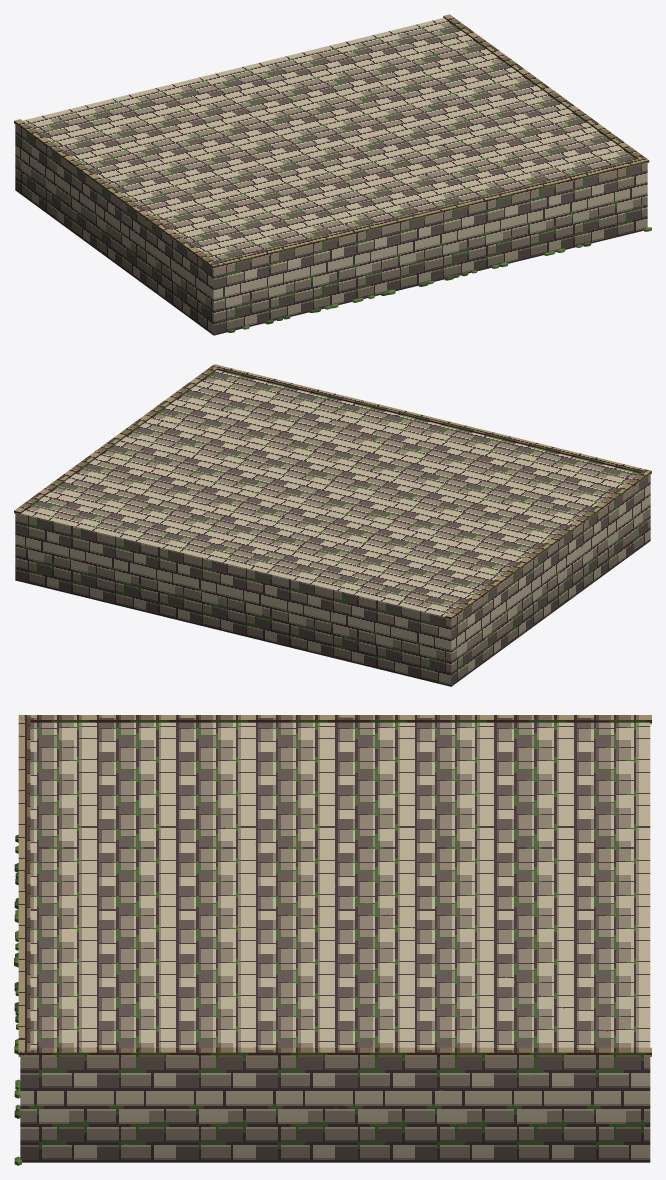
Rendered from scene_wall_n.glb.
3 renders of one model, top to bottom at view 1: azimuth 30°, elevation 25°; view 2: azimuth 150°, elevation 25°; view 3: azimuth 270°, elevation 25°, orthographic. The views are drawn at different scales.
Parts seen in each view (by area): view 1: scene_wall_n; view 2: scene_wall_n; view 3: scene_wall_n.
Boxes of the visible parts, x1,y1,x2,y2 form: scene_wall_n: (14, 14, 651, 335); scene_wall_n: (14, 364, 651, 686); scene_wall_n: (14, 715, 651, 1165).
Bounding box in the file's own units: 24.25 × 3.77 × 19.24.
Materials: 2 (1 with a texture image).
